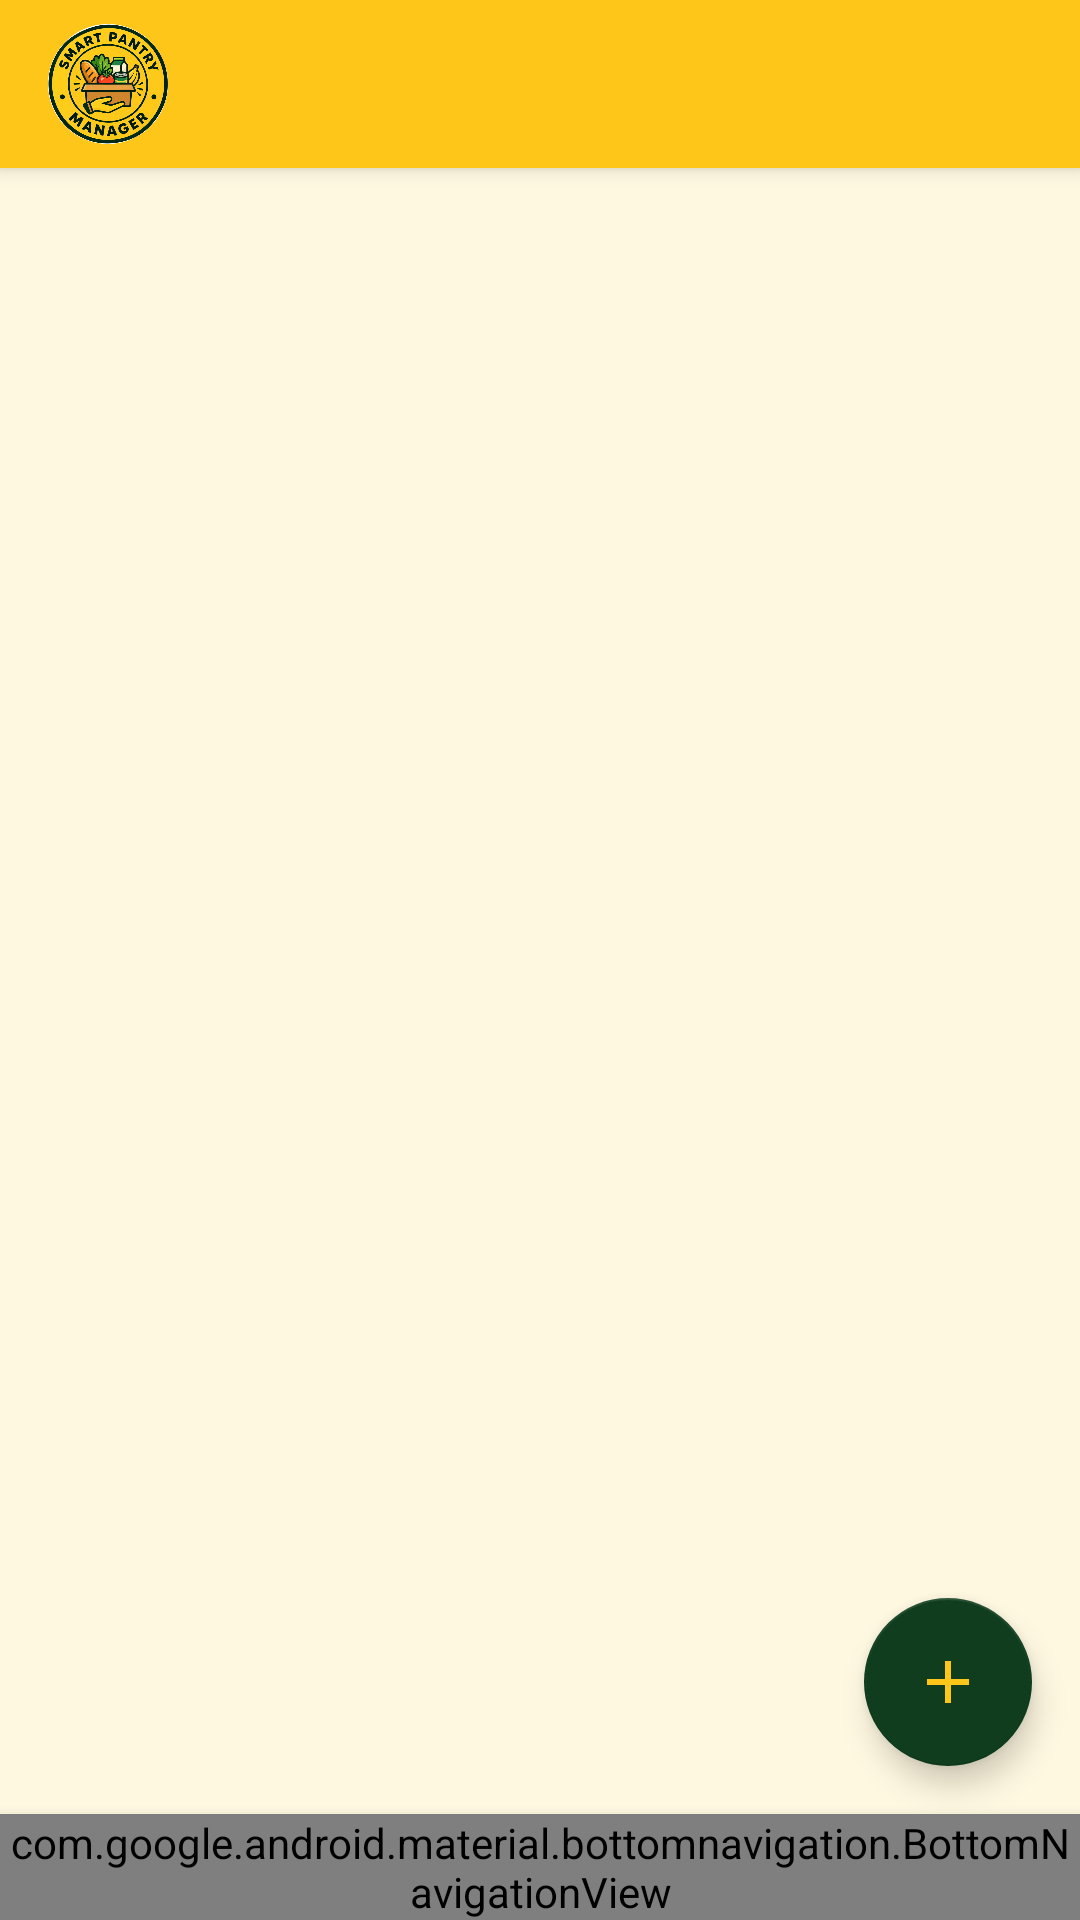

Point at icon controls on the screen. Image size 1080px×1920px, points as (x=x, y=y).
Add ingredient: (x=948, y=1682)
